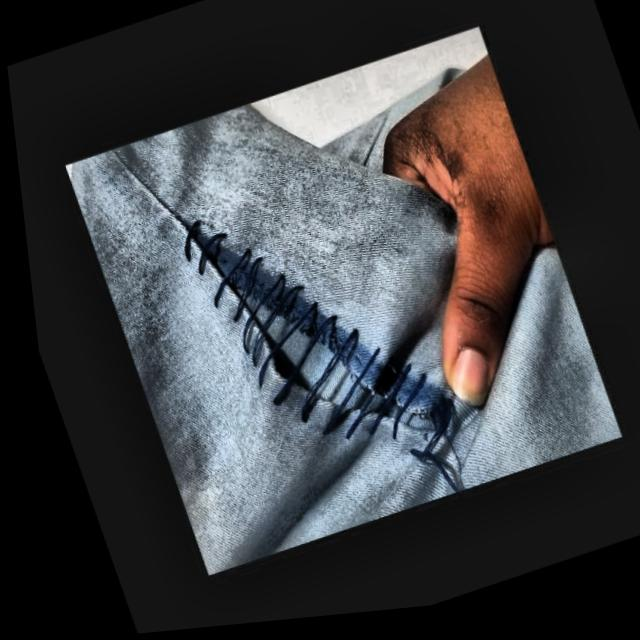Stitch: (139, 133, 476, 564)
